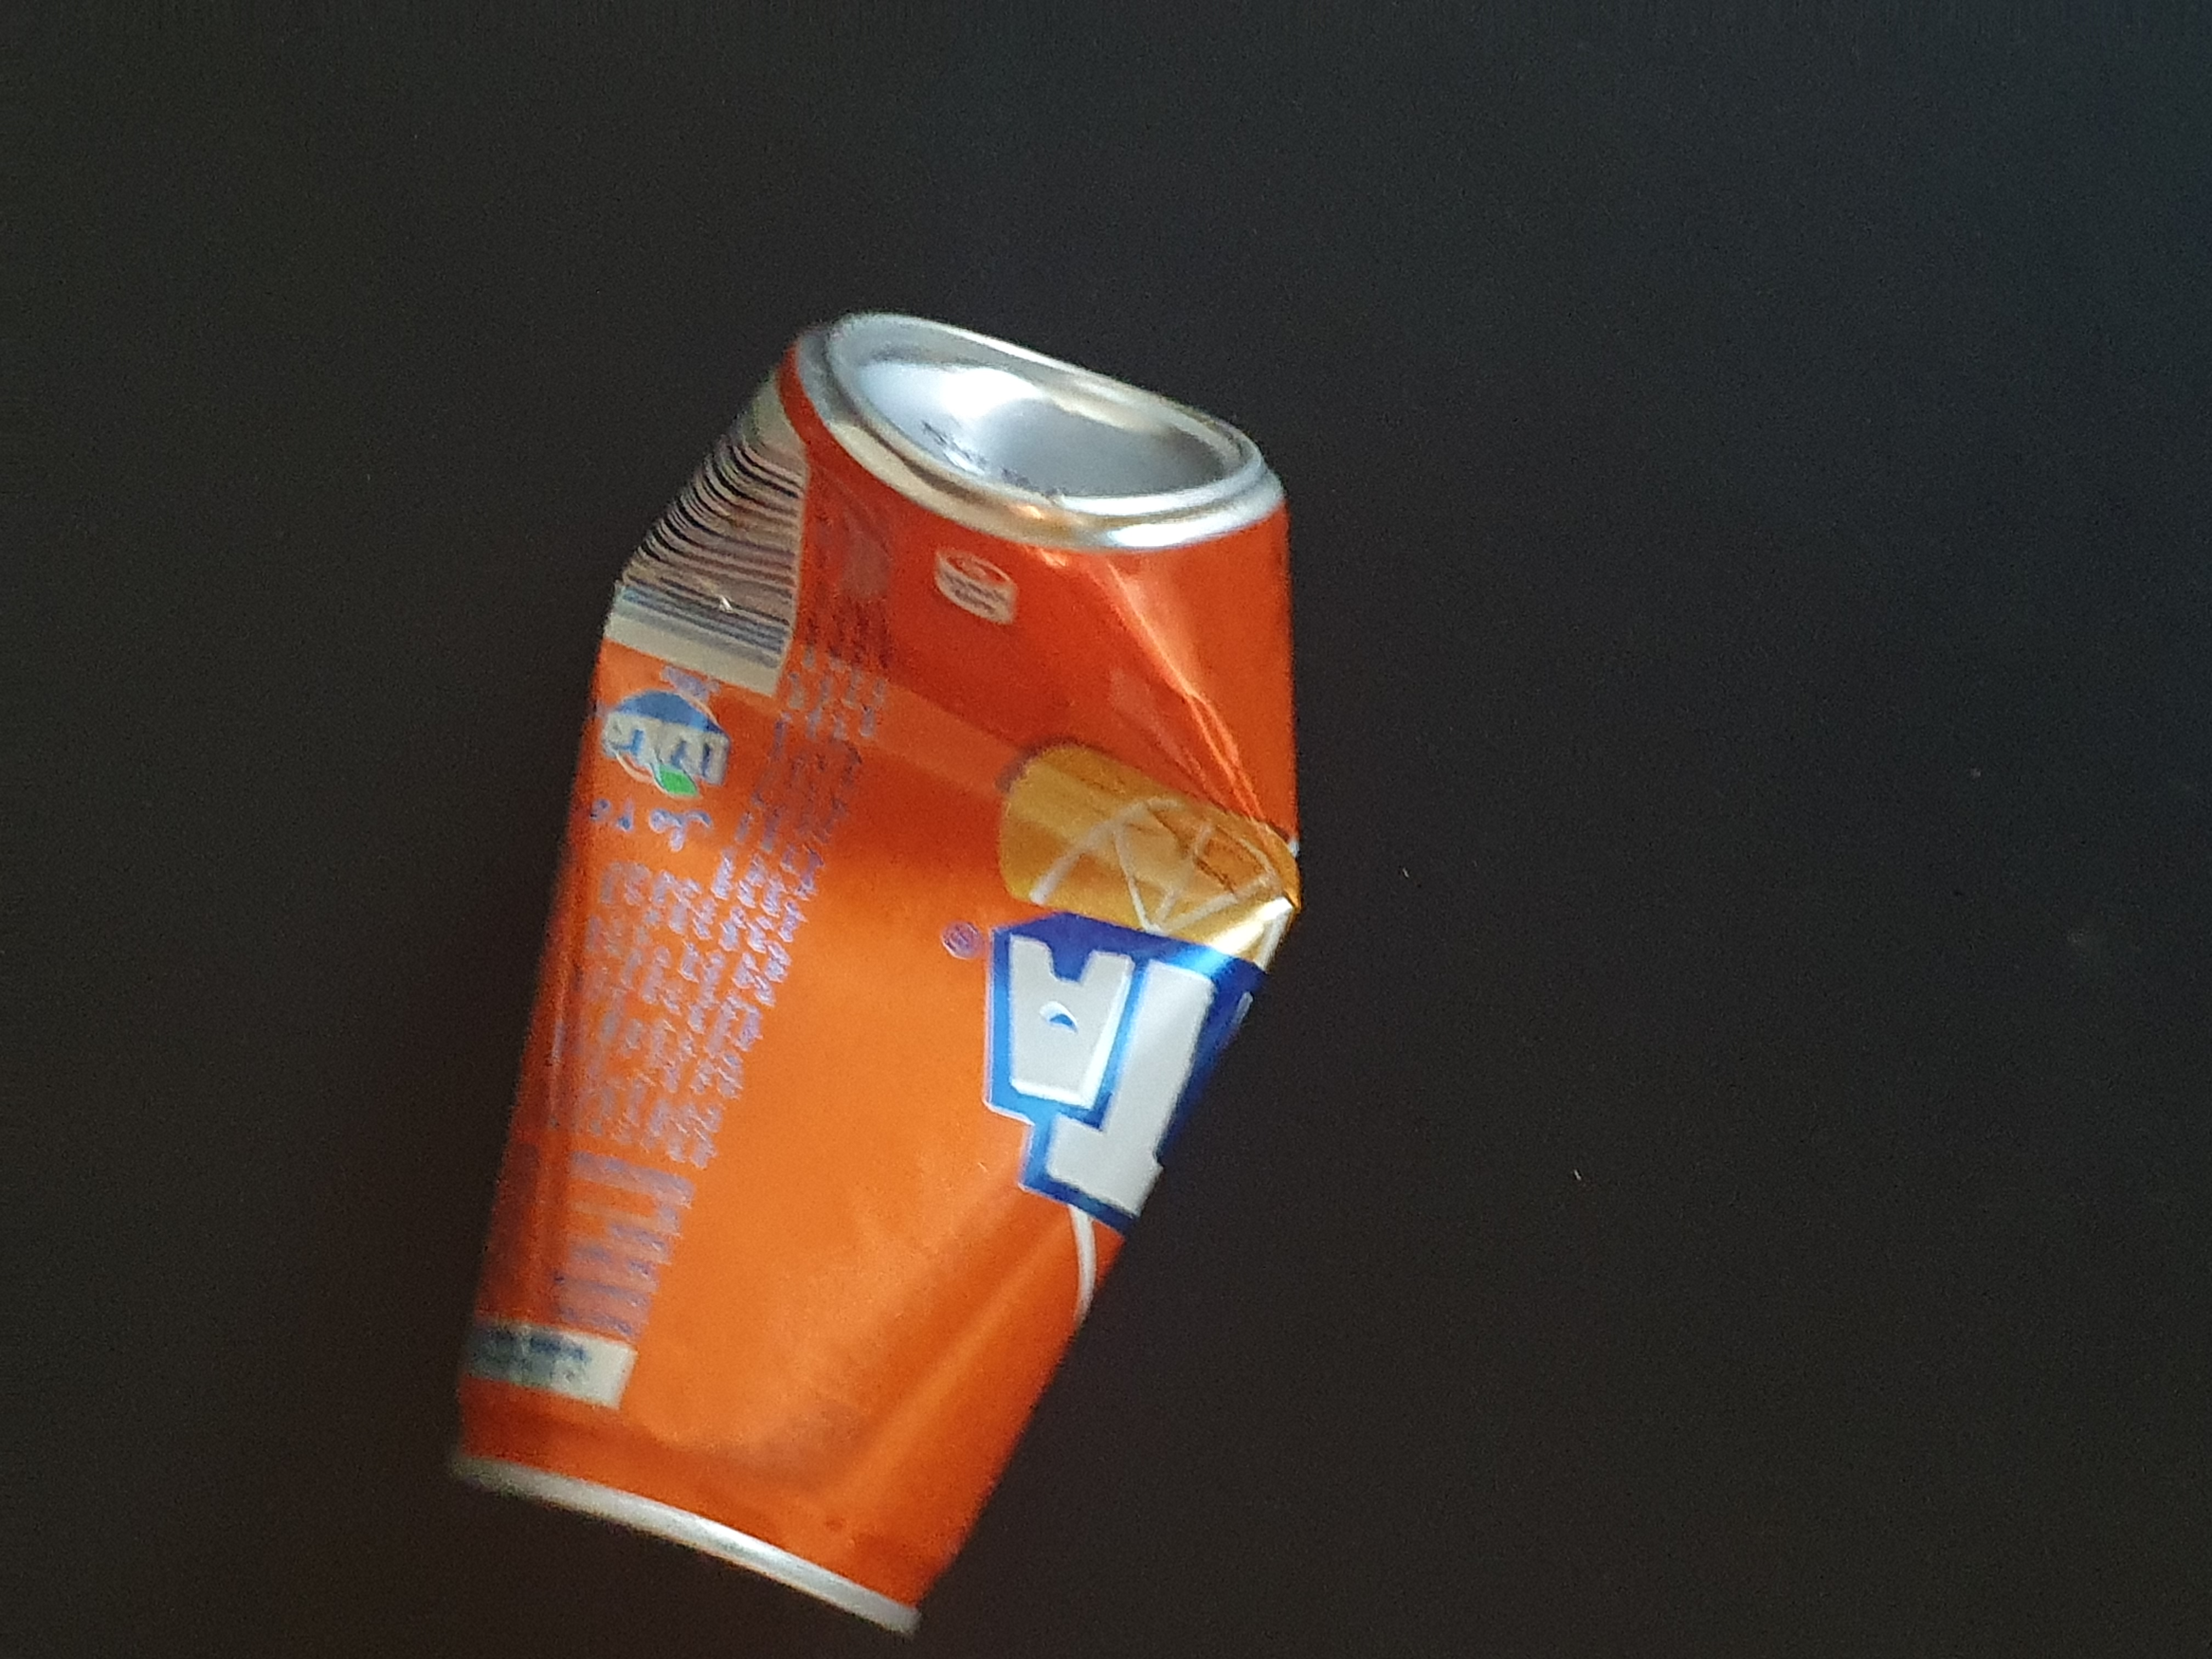metal: (397, 256, 1331, 1649)
